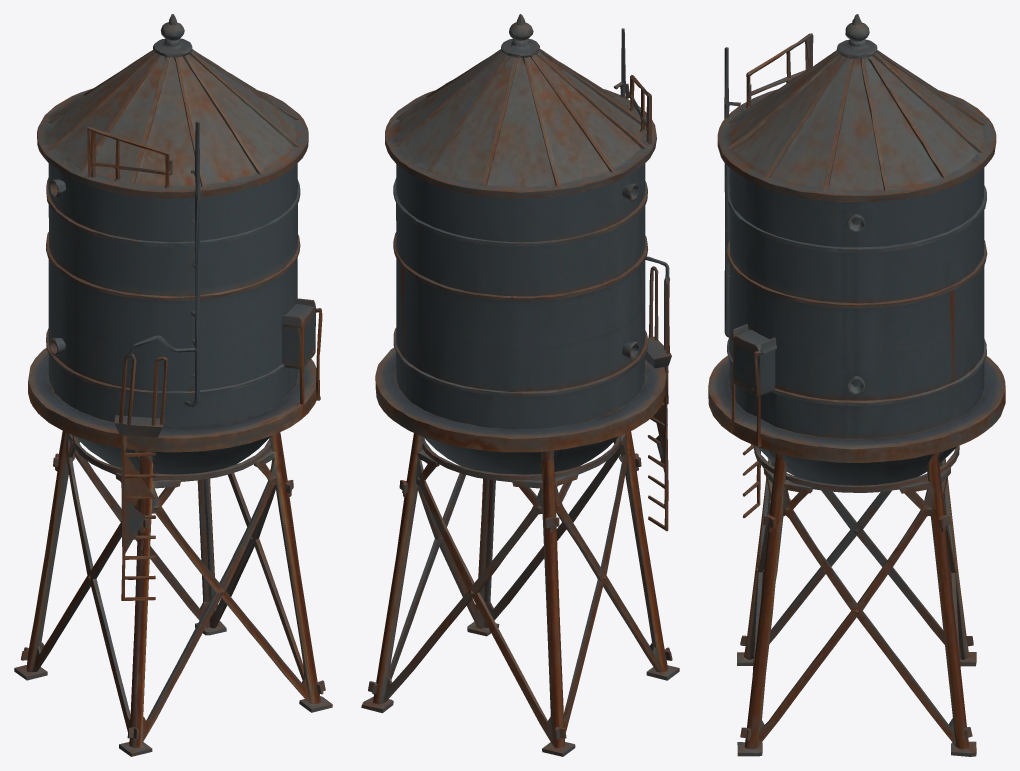
File: water_tower_steel.glb
The picture shows the model from 3 angles, left to right: view 1: azimuth 30°, elevation 25°; view 2: azimuth 150°, elevation 25°; view 3: azimuth 270°, elevation 25°; orthographic projection. The views are drawn at different scales.
Parts seen in each view (by area): view 1: main; view 2: main; view 3: main.
Boxes of the visible parts, bbox=[...] form: main: bbox=[14, 14, 332, 756]; main: bbox=[361, 14, 679, 756]; main: bbox=[708, 14, 1005, 756].
Bounding box in the file's own units: 3.35 × 8.6 × 3.35.
Materials: 1 (1 with a texture image).
